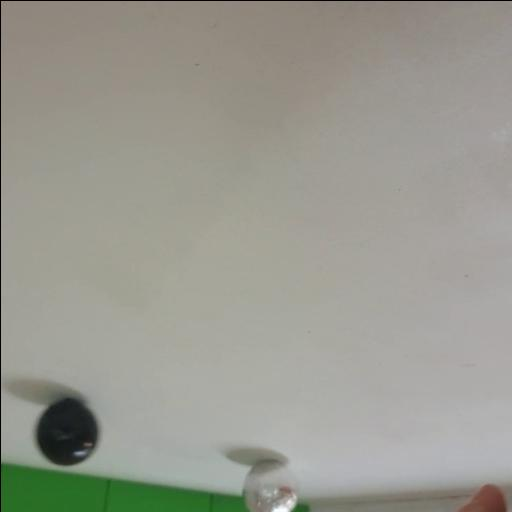alive: (242, 460, 298, 512)
dead: (36, 396, 100, 466)
